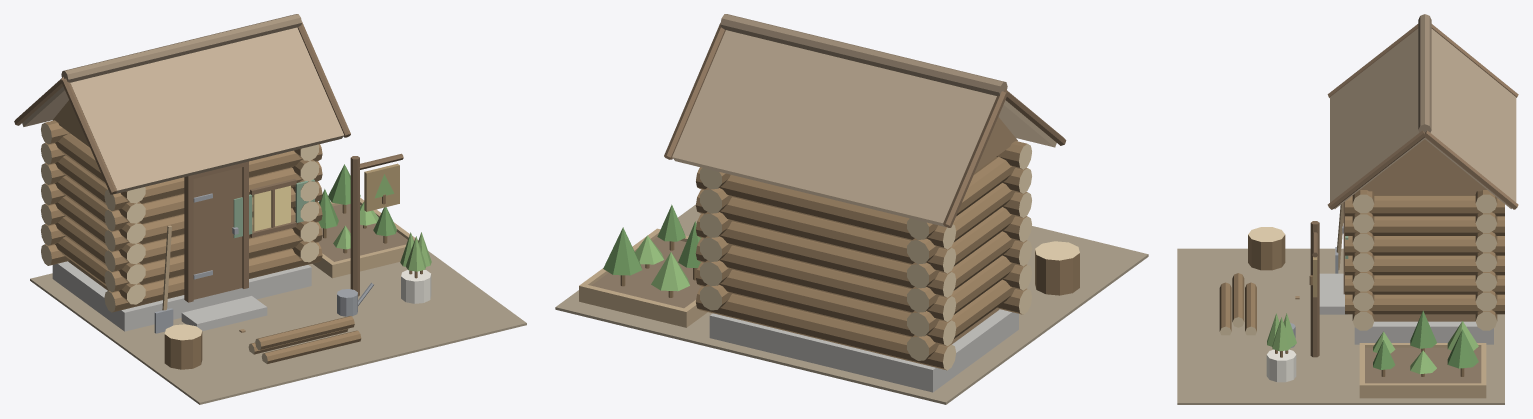
The model's file is forester.glb.
3 views of the same model, side by side, from view 1: azimuth 30°, elevation 25°; view 2: azimuth 150°, elevation 25°; view 3: azimuth 270°, elevation 25° (orthographic). The views are drawn at different scales.
Parts seen in each view (by area): view 1: Roof, Ground, Door, Plinth, Roof.Ridge, Log, Log#5, Log#17, Log#21, Bed.Soil, Step, Block (+27 smaller); view 2: Roof#2, Ground, Plinth, Log#2, Log#14, Log#10, Log#18, Log#6, Roof.Ridge, Log#22, Bed.Soil, Block (+29 smaller); view 3: Ground, Roof, Roof#2, Gable#2, Bed.Soil, Log#24, Log#4, Log#12, Log#8, Log#20, Log#16, Bed#4 (+34 smaller).
Part boxes in pixels (x1=…): Roof: x1=70, y1=27, x2=344, y2=193; Ground: x1=30, y1=251, x2=526, y2=404; Door: x1=193, y1=167, x2=242, y2=299; Plinth: x1=52, y1=261, x2=311, y2=331; Roof.Ridge: x1=61, y1=14, x2=301, y2=82; Log: x1=104, y1=242, x2=322, y2=312; Log#5: x1=104, y1=222, x2=322, y2=292; Log#17: x1=104, y1=161, x2=322, y2=231; Log#21: x1=104, y1=144, x2=322, y2=210; Bed.Soil: x1=318, y1=204, x2=407, y2=261; Step: x1=181, y1=296, x2=267, y2=331; Block: x1=164, y1=324, x2=202, y2=369; Roof#2: x1=672, y1=30, x2=996, y2=226; Ground: x1=555, y1=204, x2=1148, y2=404; Plinth: x1=709, y1=309, x2=1018, y2=392; Log#2: x1=696, y1=286, x2=956, y2=370; Log#14: x1=696, y1=213, x2=956, y2=297; Log#10: x1=695, y1=238, x2=956, y2=321; Log#18: x1=695, y1=189, x2=956, y2=273; Log#6: x1=696, y1=262, x2=956, y2=346; Roof.Ridge: x1=720, y1=14, x2=1007, y2=95; Log#22: x1=696, y1=167, x2=956, y2=249; Bed.Soil: x1=591, y1=237, x2=700, y2=308; Block: x1=1035, y1=241, x2=1079, y2=295; Ground: x1=1177, y1=248, x2=1504, y2=404; Roof: x1=1330, y1=28, x2=1425, y2=208; Roof#2: x1=1424, y1=29, x2=1516, y2=208; Gable#2: x1=1359, y1=139, x2=1486, y2=191; Bed.Soil: x1=1365, y1=347, x2=1481, y2=383; Log#24: x1=1345, y1=195, x2=1504, y2=216; Log#4: x1=1345, y1=294, x2=1504, y2=314; Log#12: x1=1345, y1=255, x2=1504, y2=275; Log#8: x1=1345, y1=275, x2=1504, y2=294; Log#20: x1=1345, y1=216, x2=1504, y2=235; Log#16: x1=1345, y1=236, x2=1504, y2=255; Bed#4: x1=1359, y1=383, x2=1486, y2=398.
Size of the model in its own units: 5.04 by 3.46 by 4.58.
